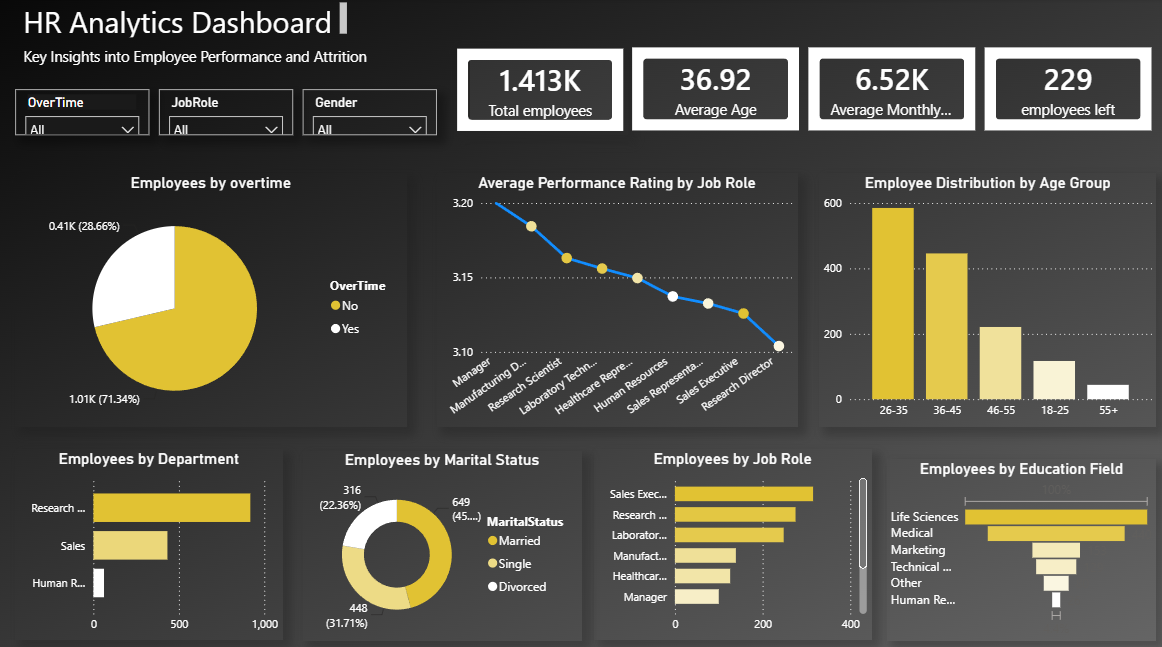

This screenshot's page, from the dashboard's own definition file:
{"tool":"powerbi","page":{"name":"Page 1","canvas":[1280,720],"ordinal":0},"visuals":[{"type":"barChart","title":"Employees by Department","fields":{"Category":["hr_analytics hr_analytics.Department"],"Y":["Count(hr_analytics hr_analytics.EmployeeNumber)"]},"box":[17.8,495.4,293.7,209.9],"z":0},{"type":"clusteredColumnChart","title":"Employee Distribution by Age Group","fields":{"Category":["hr_analytics hr_analytics.AgeGroup"],"Y":["Count(hr_analytics hr_analytics.EmployeeNumber)"]},"box":[900.2,192.1,370.5,278.6],"z":1000},{"type":"pieChart","title":"Employees by overtime","fields":{"Category":["hr_analytics hr_analytics.OverTime"],"Y":["Count(hr_analytics hr_analytics.EmployeeNumber)"]},"box":[17.8,192.1,429.5,278.6],"z":2000},{"type":"donutChart","title":"Employees by Marital Status","fields":{"Category":["hr_analytics hr_analytics.MaritalStatus"],"Y":["Count(hr_analytics hr_analytics.EmployeeNumber)"]},"box":[333.4,496.7,306,209.9],"z":3000},{"type":"barChart","title":"Employees by Job Role","fields":{"Category":["hr_analytics hr_analytics.JobRole"],"Y":["Count(hr_analytics hr_analytics.EmployeeNumber)"]},"box":[653.2,495.4,304.6,209.9],"z":4000},{"type":"funnel","title":"Employees by Education Field","fields":{"Category":["hr_analytics hr_analytics.EducationField"],"Y":["Count(hr_analytics hr_analytics.EmployeeNumber)"]},"box":[974.3,506.3,296.4,199],"z":5000},{"type":"lineChart","title":"Average Performance Rating by Job Role","fields":{"Category":["hr_analytics hr_analytics.JobRole"],"Y":["Avg(hr_analytics hr_analytics.PerformanceRating)"]},"box":[480.3,192.1,396.6,278.6],"z":6000},{"type":"cardVisual","fields":{"Data":["Count(hr_analytics hr_analytics.EmployeeNumber)"]},"box":[498.1,50.8,192.1,100.2],"z":7000},{"type":"cardVisual","fields":{"Data":["Avg(hr_analytics hr_analytics.Age)"]},"box":[690.2,49.4,193.5,101.5],"z":8000},{"type":"cardVisual","fields":{"Data":["Avg(hr_analytics hr_analytics.MonthlyIncome)"]},"box":[883.7,49.4,193.5,101.5],"z":9000},{"type":"cardVisual","fields":{"Data":["Count(hr_analytics hr_analytics.EmployeeNumber)"]},"box":[1077.2,49.4,193.5,101.5],"z":10000},{"type":"textbox","box":[22,0,365,48],"z":11000},{"type":"textbox","box":[22,48,480.3,41.2],"z":12000},{"type":"slicer","fields":{"Values":["hr_analytics hr_analytics.OverTime"]},"box":[17.8,100.2,146.8,50.8],"z":13000},{"type":"slicer","fields":{"Values":["hr_analytics hr_analytics.JobRole"]},"box":[175.6,100.2,146.8,50.8],"z":14000},{"type":"slicer","fields":{"Values":["hr_analytics hr_analytics.Gender"]},"box":[333.4,100.2,146.8,50.8],"z":15000}]}

Visuals, with their boxes in screenshot pixels (x1, y1, x2, y2), scaled from the page's 1280x720 canvas onto the 1162x647 screenshot:
"Employees by Department" barChart: crop(16, 445, 283, 634)
"Employee Distribution by Age Group" clusteredColumnChart: crop(817, 173, 1154, 423)
"Employees by overtime" pieChart: crop(16, 173, 406, 423)
"Employees by Marital Status" donutChart: crop(303, 446, 580, 635)
"Employees by Job Role" barChart: crop(593, 445, 870, 634)
"Employees by Education Field" funnel: crop(884, 455, 1154, 634)
"Average Performance Rating by Job Role" lineChart: crop(436, 173, 796, 423)
cardVisual - Count(hr_analytics hr_analytics.EmployeeNumber): crop(452, 46, 627, 136)
cardVisual - Avg(hr_analytics hr_analytics.Age): crop(627, 44, 802, 136)
cardVisual - Avg(hr_analytics hr_analytics.MonthlyIncome): crop(802, 44, 978, 136)
cardVisual - Count(hr_analytics hr_analytics.EmployeeNumber): crop(978, 44, 1154, 136)
textbox: crop(20, 0, 351, 43)
textbox: crop(20, 43, 456, 80)
slicer - hr_analytics hr_analytics.OverTime: crop(16, 90, 149, 136)
slicer - hr_analytics hr_analytics.JobRole: crop(159, 90, 293, 136)
slicer - hr_analytics hr_analytics.Gender: crop(303, 90, 436, 136)
